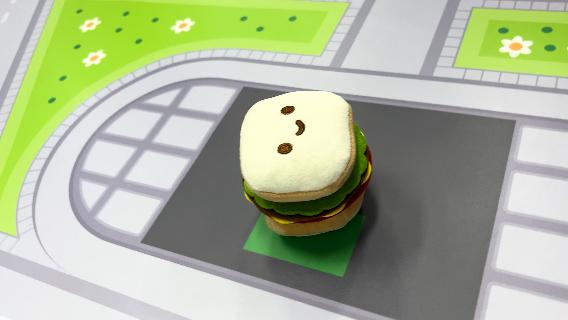sandwich: (237, 88, 375, 238)
